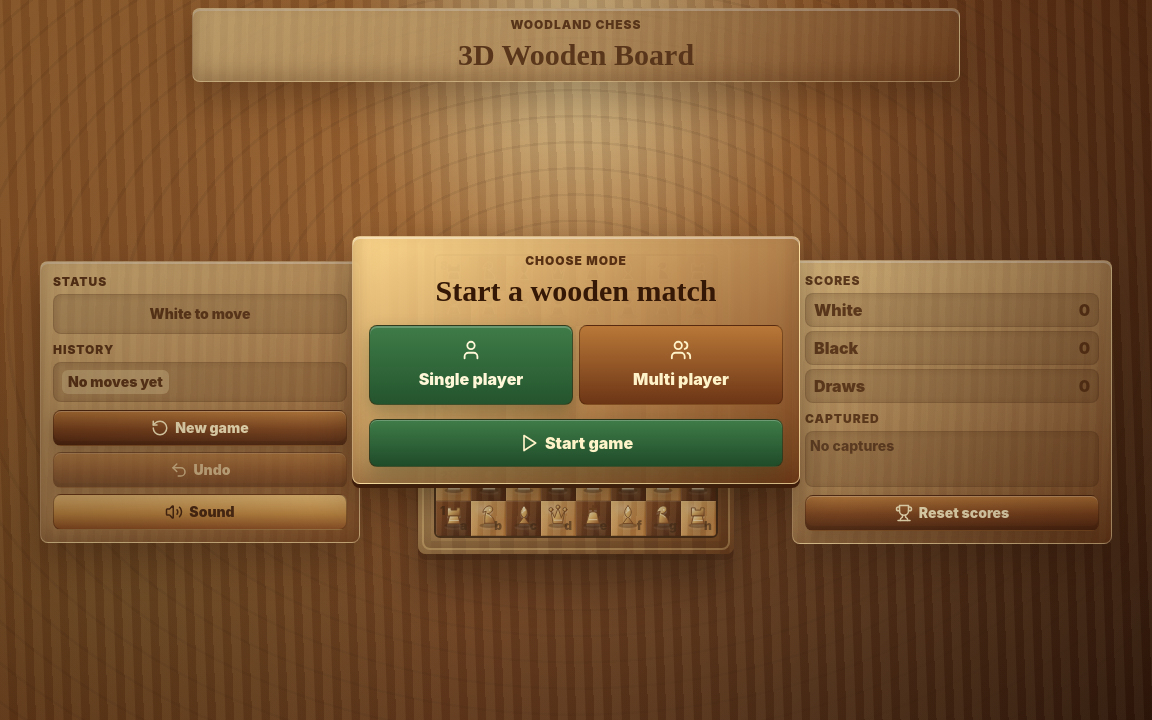
Scenario: App — board interaction › selecting a white pawn shows move target dots
Click the button "Multi player". click: click(681, 365)
box: left=579, top=325, right=783, bottom=405
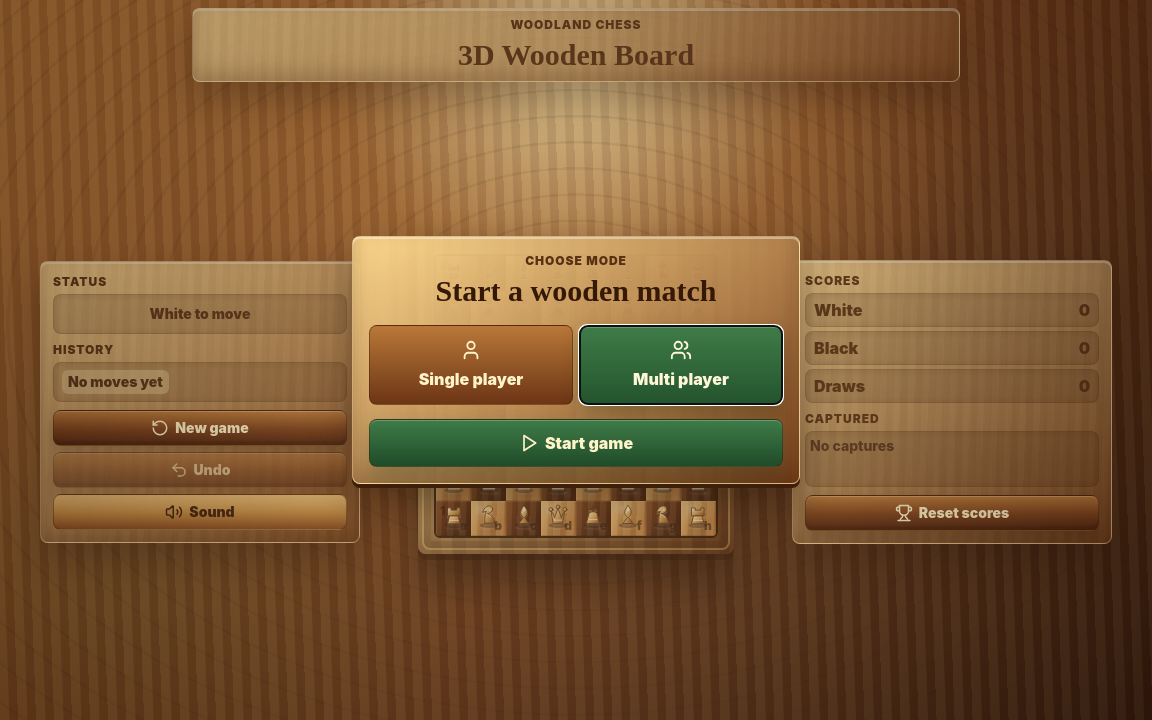
Click the button "Start game". click: click(576, 443)
box: left=369, top=419, right=783, bottom=467
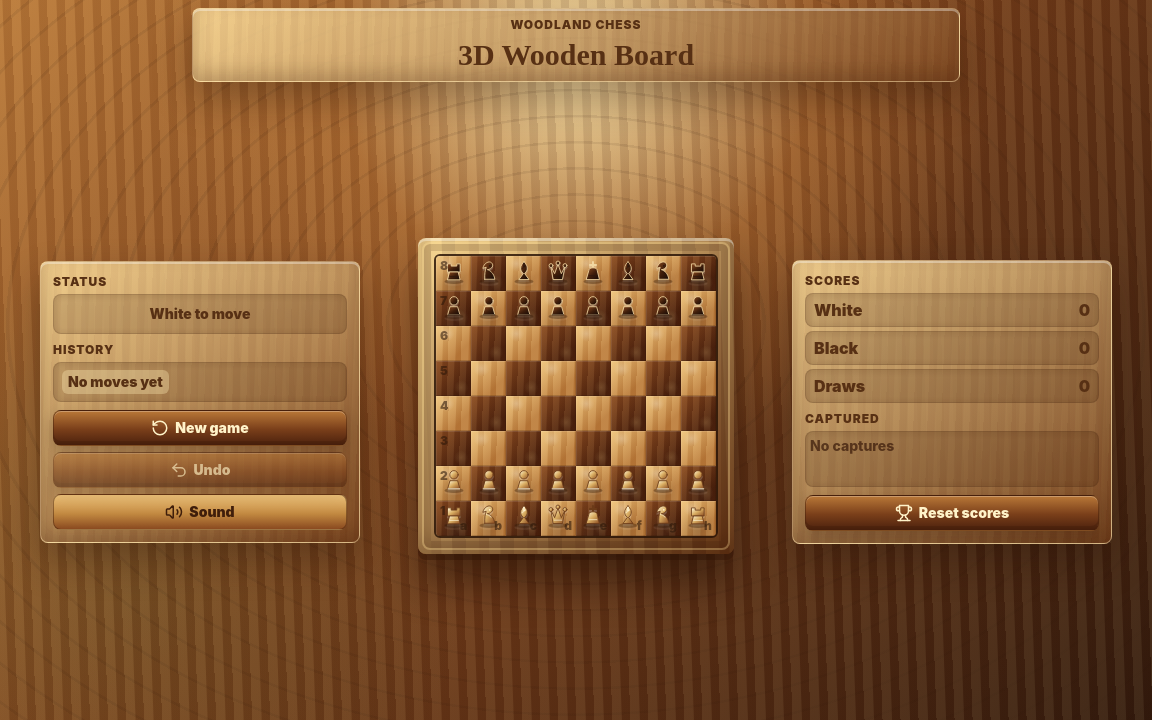
Click the button named "e2 white pawn". click: click(594, 483)
box: left=576, top=466, right=611, bottom=501
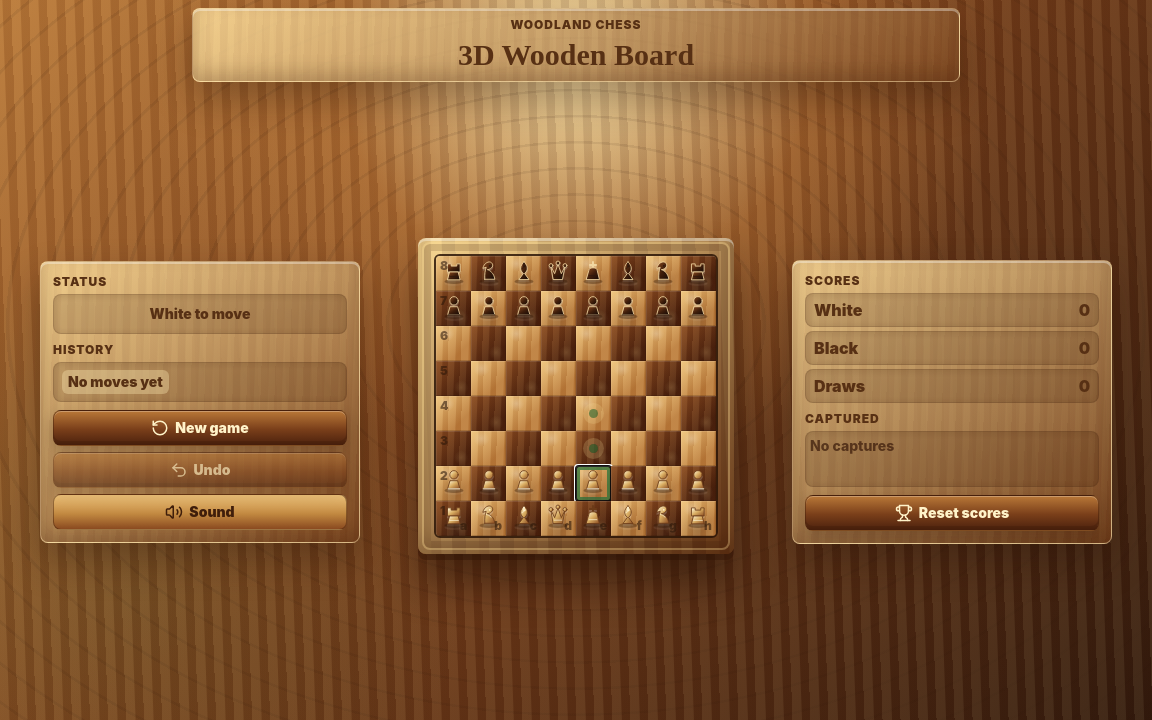
Check: the 1st element with class "move-target-dot" is shown, box left=588, top=408, right=598, bottom=418
